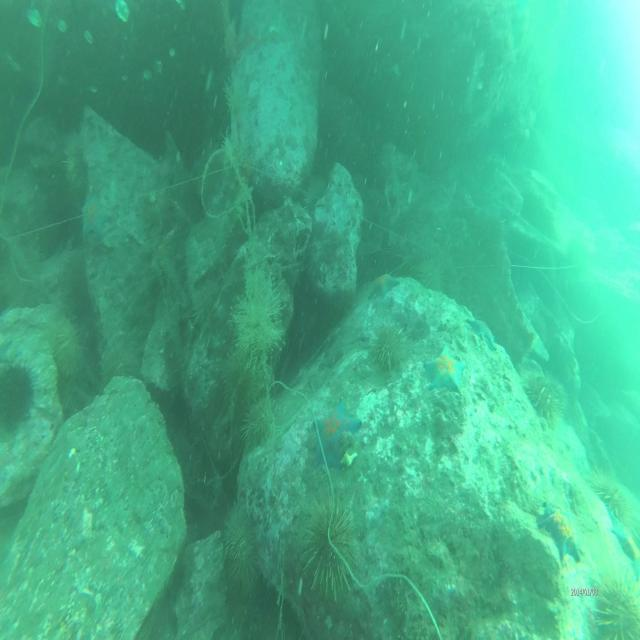echinus: (302, 483, 363, 600), (217, 504, 260, 600), (585, 462, 635, 534), (0, 350, 43, 431), (591, 569, 640, 640), (49, 314, 89, 385), (525, 368, 568, 427), (62, 123, 100, 185), (370, 312, 408, 372), (242, 400, 278, 453), (222, 350, 256, 402)
starfish: (313, 394, 363, 470), (536, 501, 582, 565), (424, 342, 466, 393), (78, 188, 113, 248), (462, 309, 503, 360), (366, 264, 402, 308)
